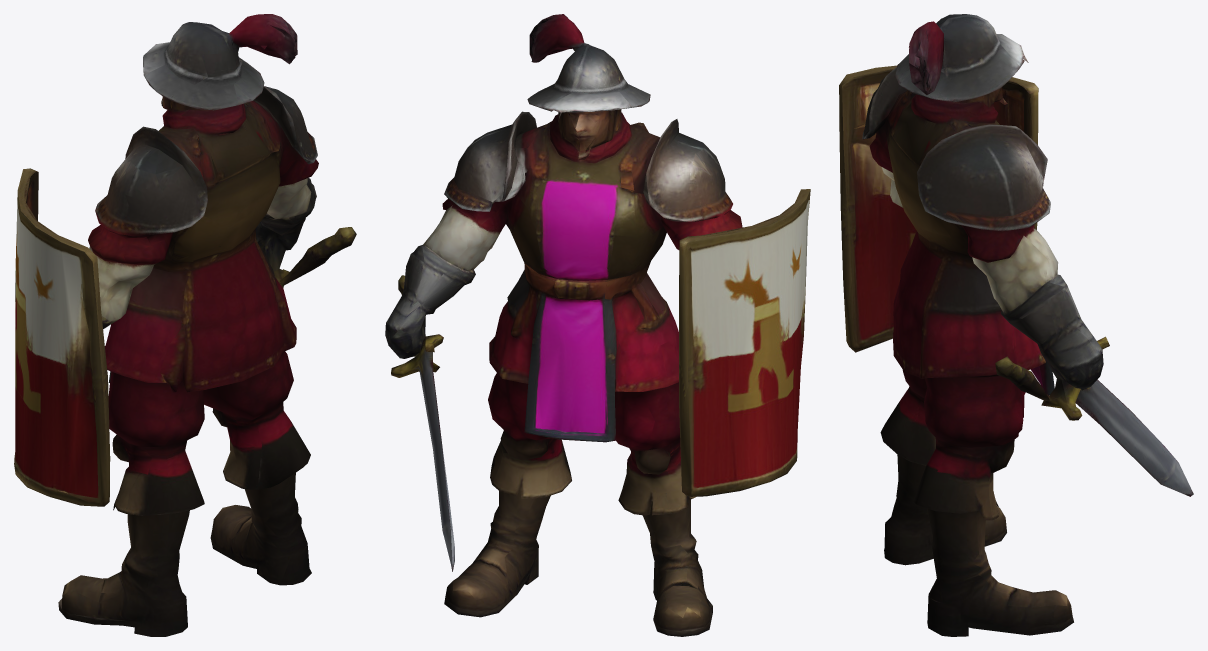
Rendered from bakeoff_trellis_4k.glb.
3 views of the same model, side by side, from view 1: azimuth 30°, elevation 25°; view 2: azimuth 150°, elevation 25°; view 3: azimuth 270°, elevation 25° (orthographic). The views are drawn at different scales.
Parts seen in each view (by area): view 1: soldier_trellis; view 2: soldier_trellis; view 3: soldier_trellis.
Part boxes in pixels (box(x1,y1,x2,y2)): soldier_trellis: box(14, 14, 356, 636); soldier_trellis: box(385, 14, 810, 636); soldier_trellis: box(839, 14, 1193, 636).
Bounding box in the file's own units: 1.16 × 1.75 × 0.9633.
2 materials, 2 textured.
